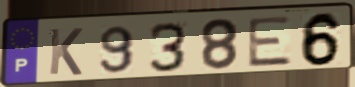3: (147, 20, 189, 74)
6: (298, 10, 345, 68)
8: (199, 16, 240, 72)
9: (98, 23, 137, 75)
E: (246, 14, 295, 69)
K: (47, 27, 85, 77)
